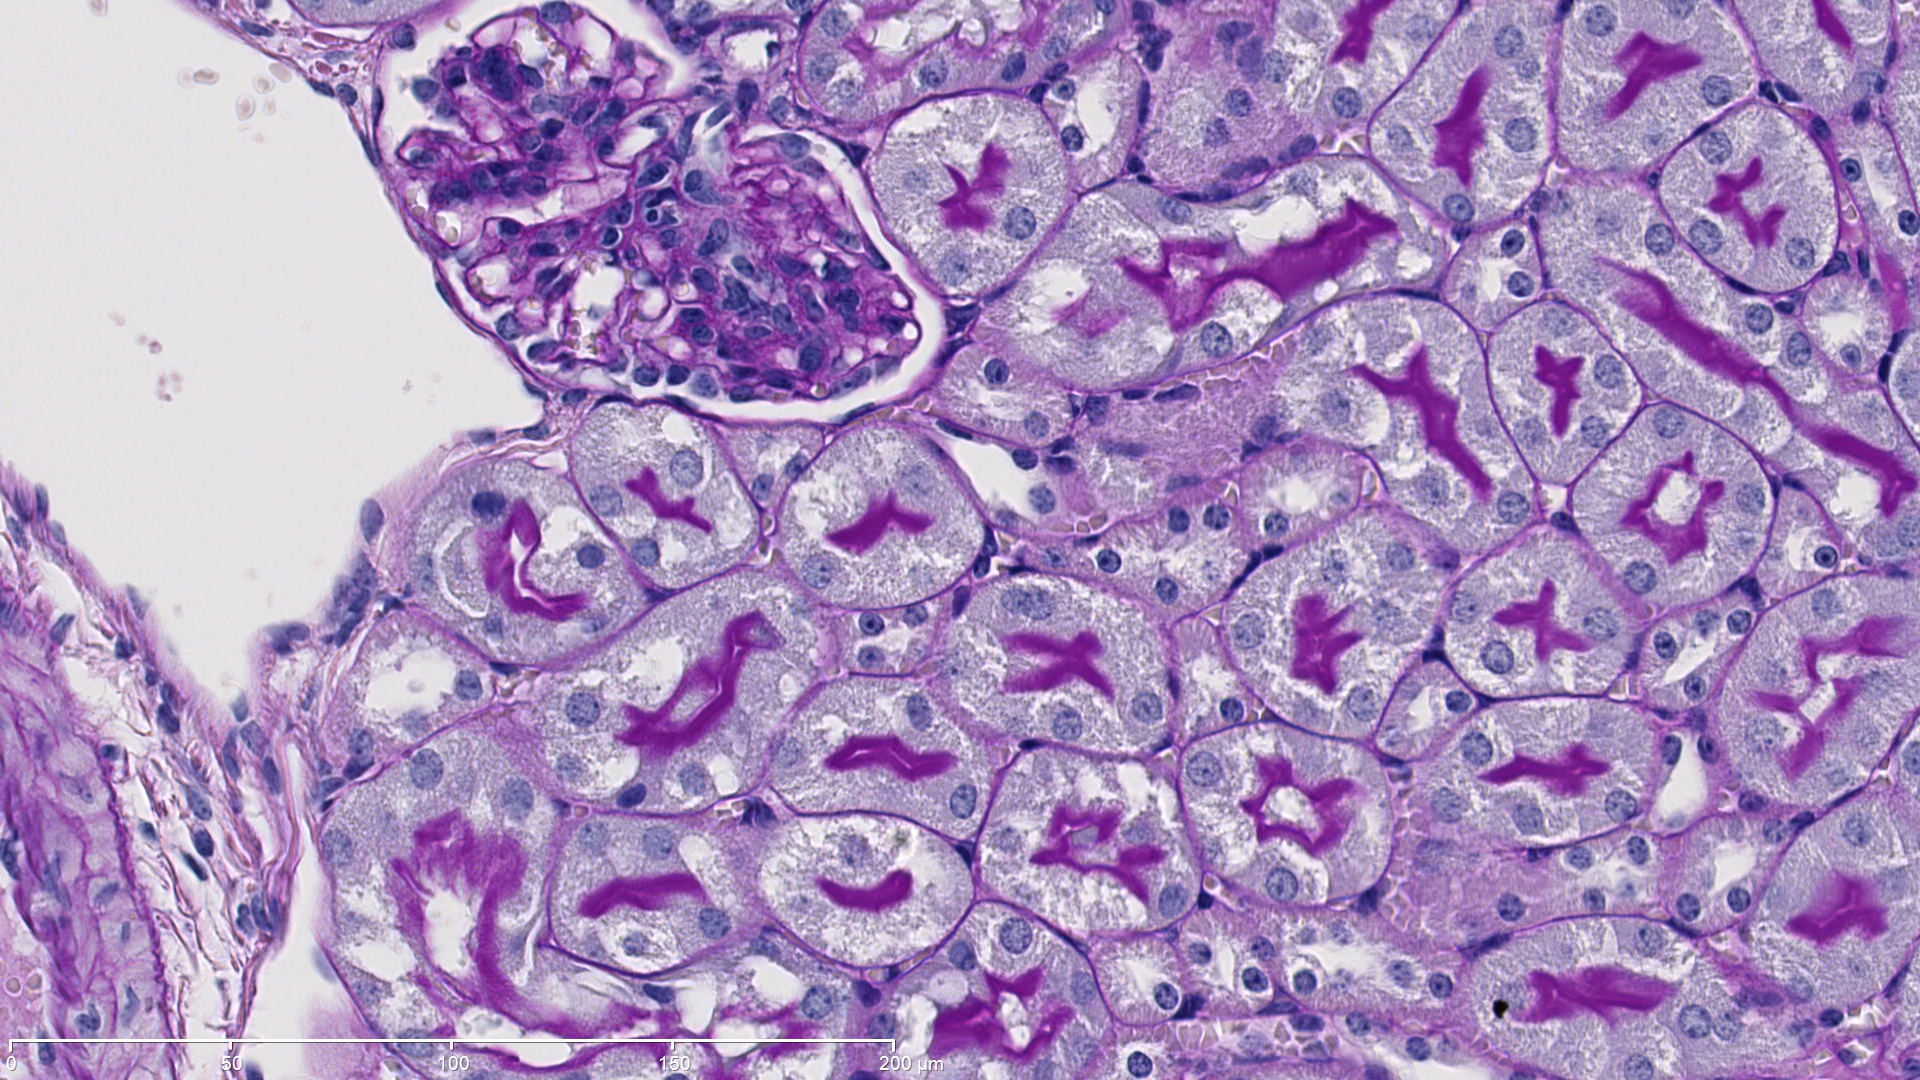Glomeruli: (380, 1, 920, 411)
